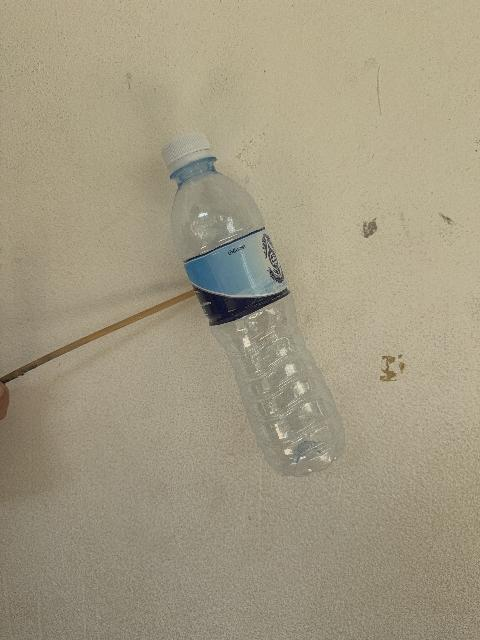bottle: (162, 133, 344, 475)
